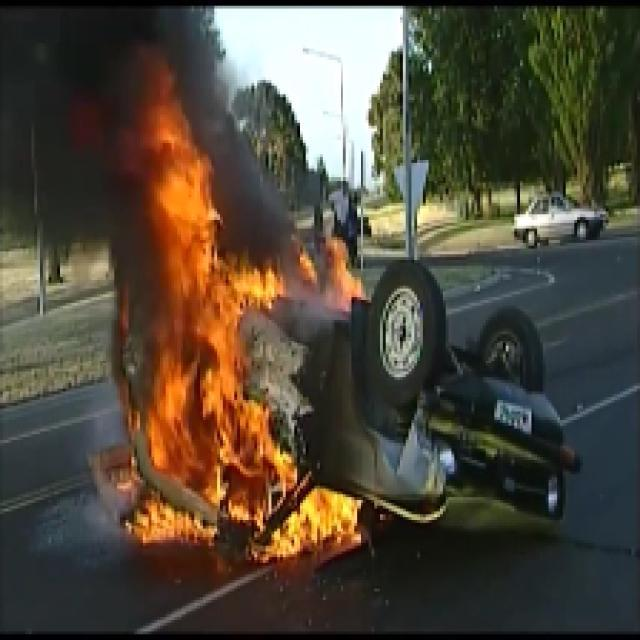Fire: (135, 344, 343, 550), (160, 159, 232, 346)
Smoke: (5, 16, 134, 232)
